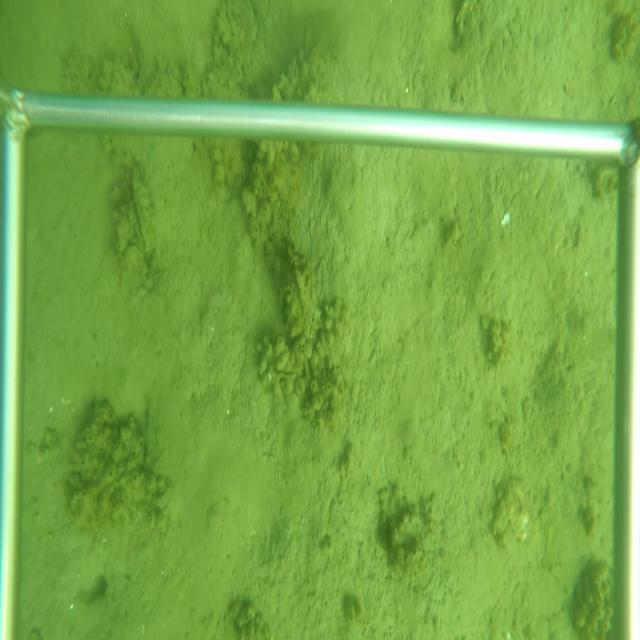Oyster-Closed: (128, 161, 155, 269), (291, 265, 307, 296)
